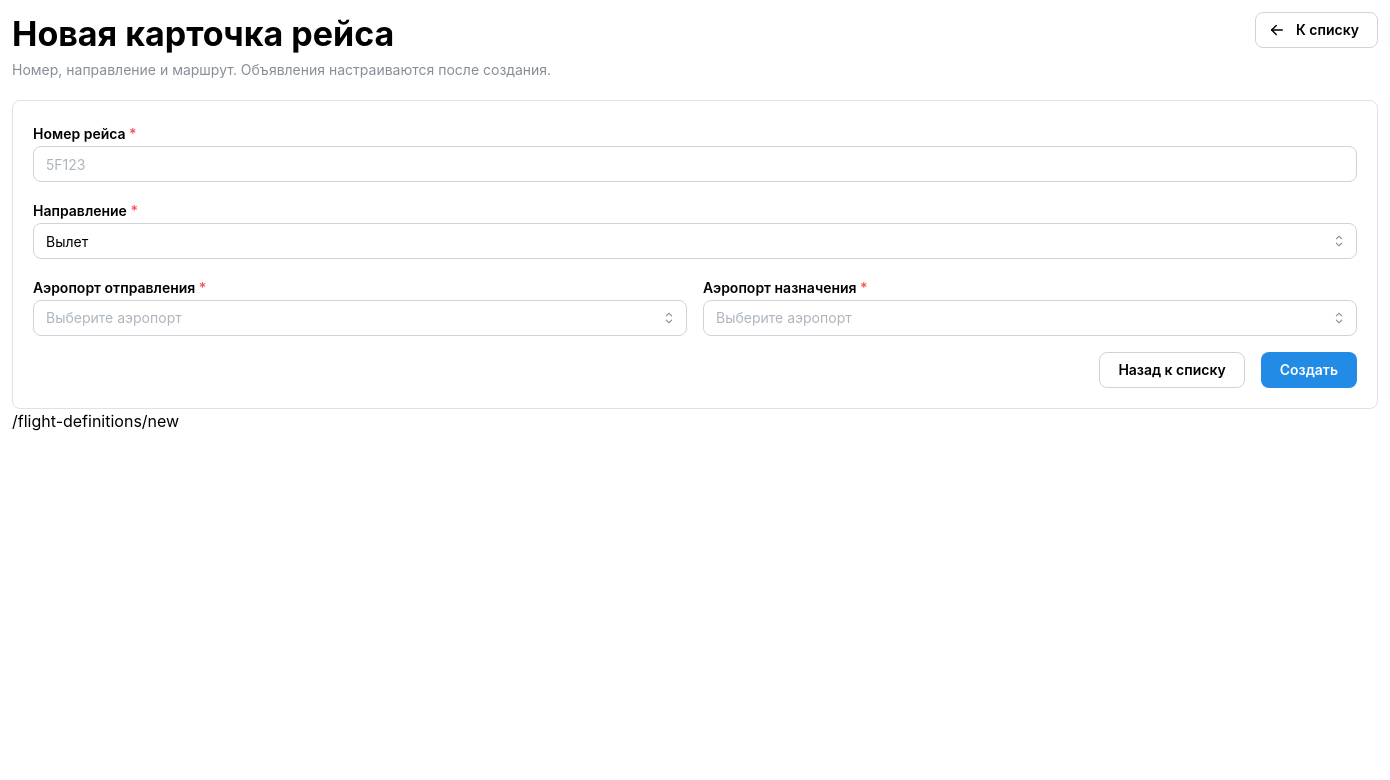
Scenario: FlightDefinitionCreatePage › creates a flight definition and navigates to the details page
Type "5f123" into the field labelled "Номер рейса *". click: (695, 164)
box: [33,146,1357,182]
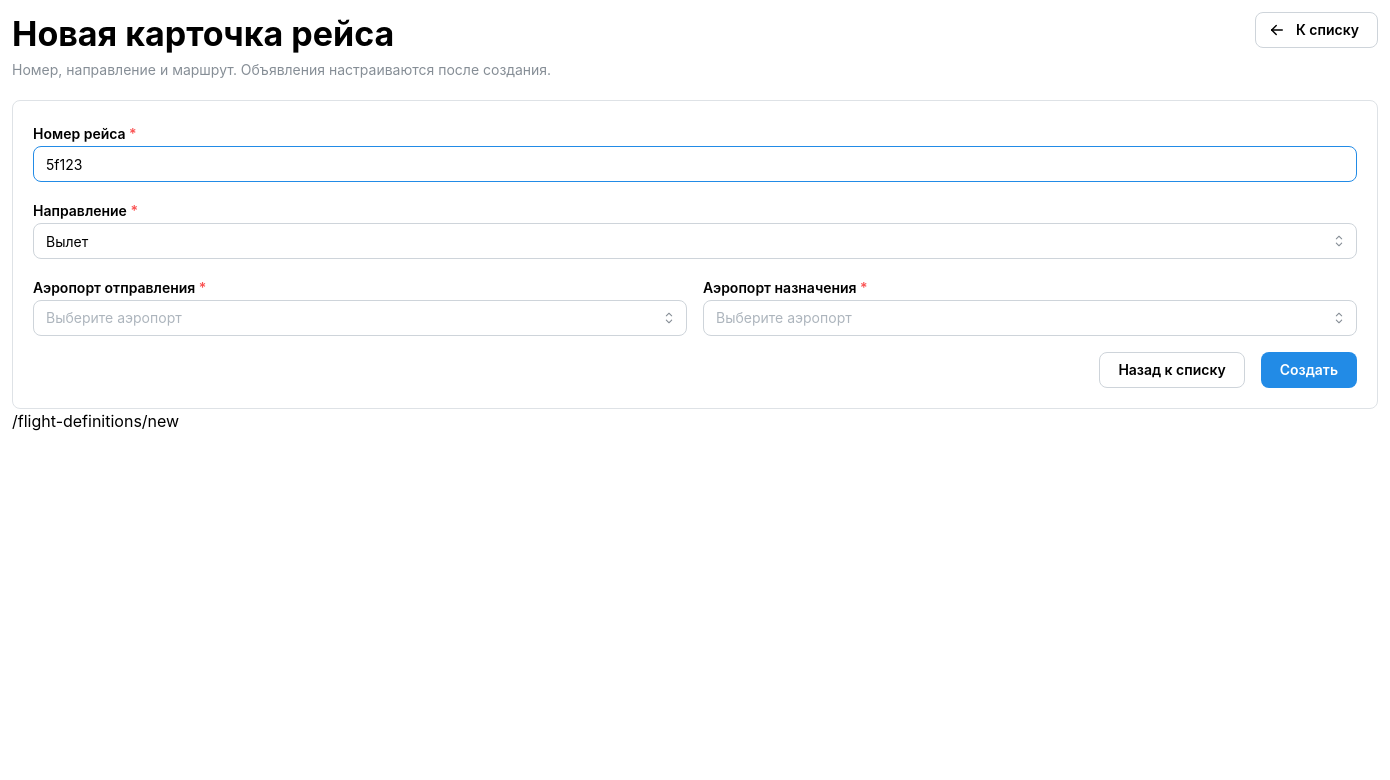
Click the dropdown labelled "Аэропорт отправления *". click: (360, 318)
box: [33,300,687,336]
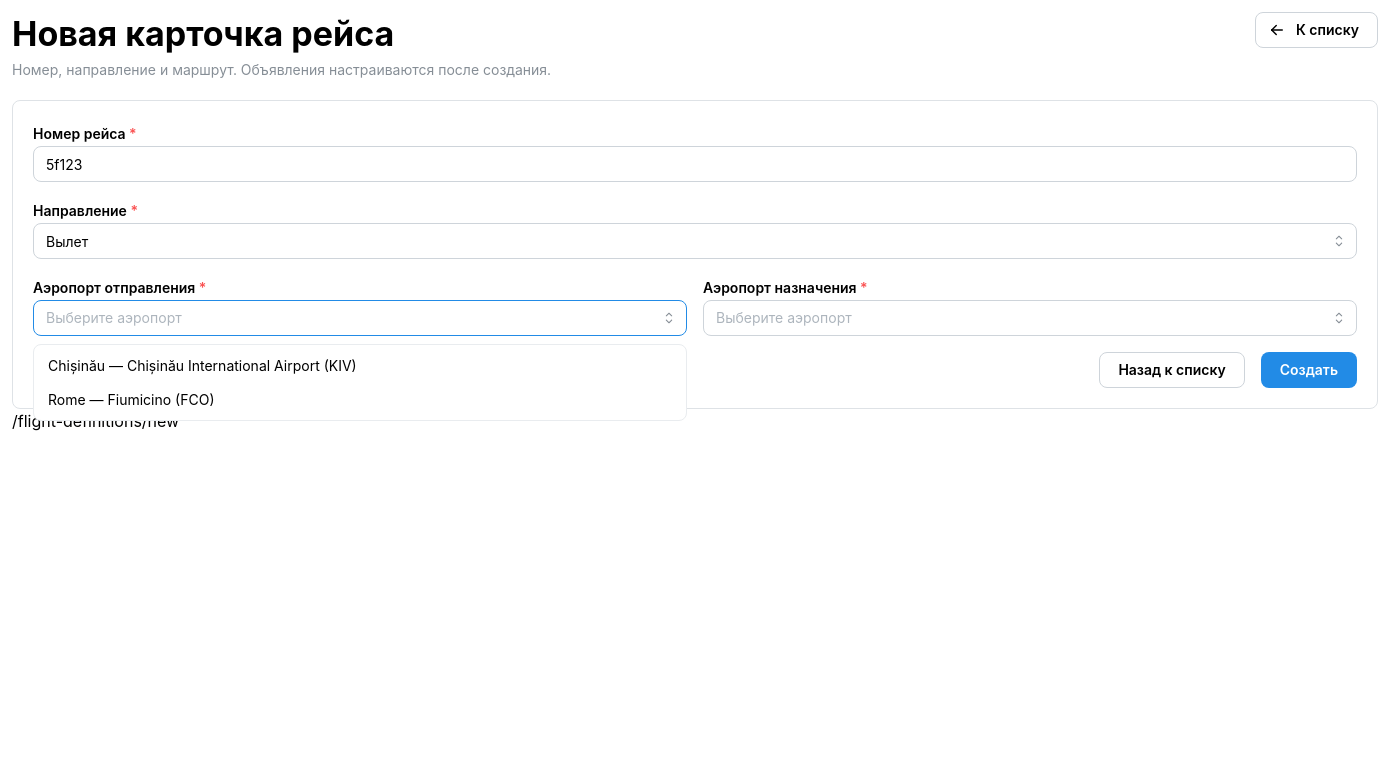
Click the option "Chișinău — Chișinău International Airport (KIV)". click: (202, 365)
box: [48,357,357,374]
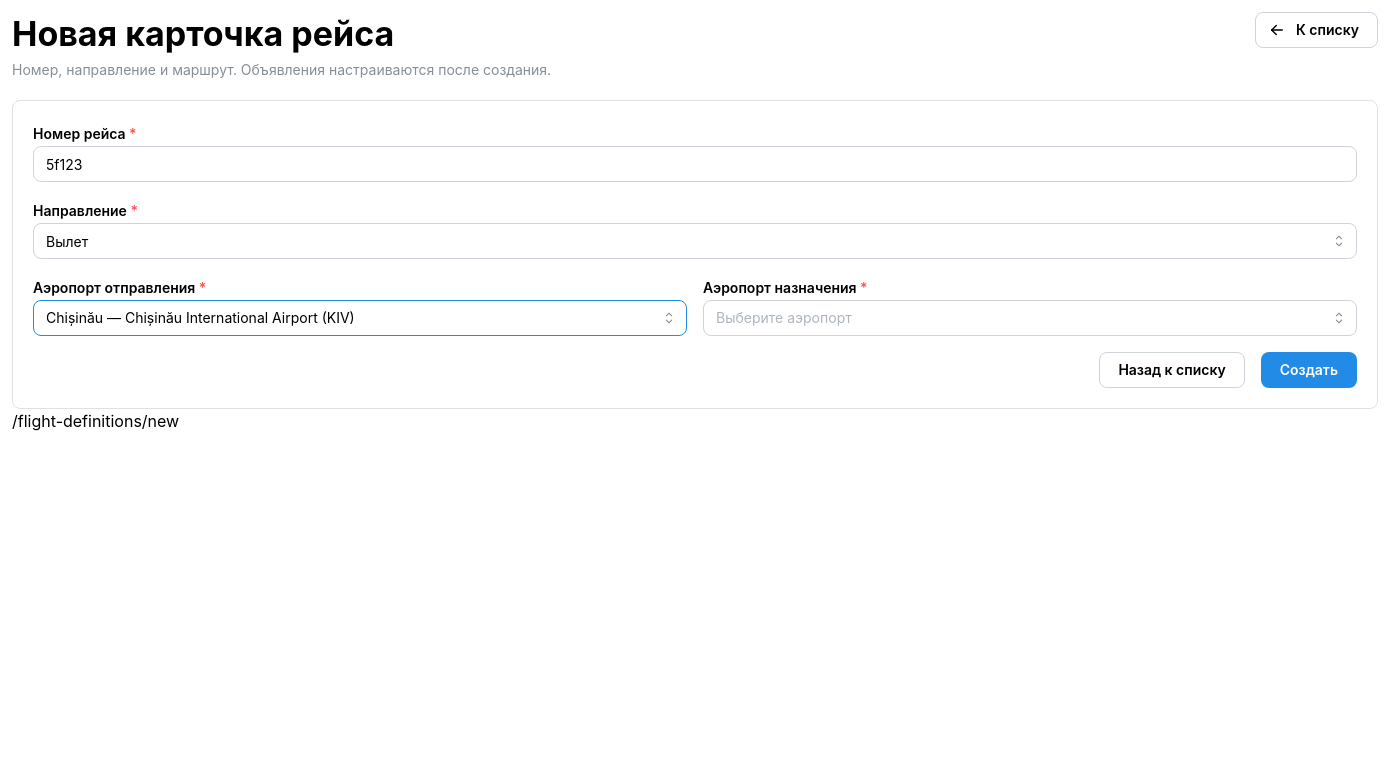
Click the dropdown labelled "Аэропорт назначения *". click: (1030, 318)
box: [703,300,1357,336]
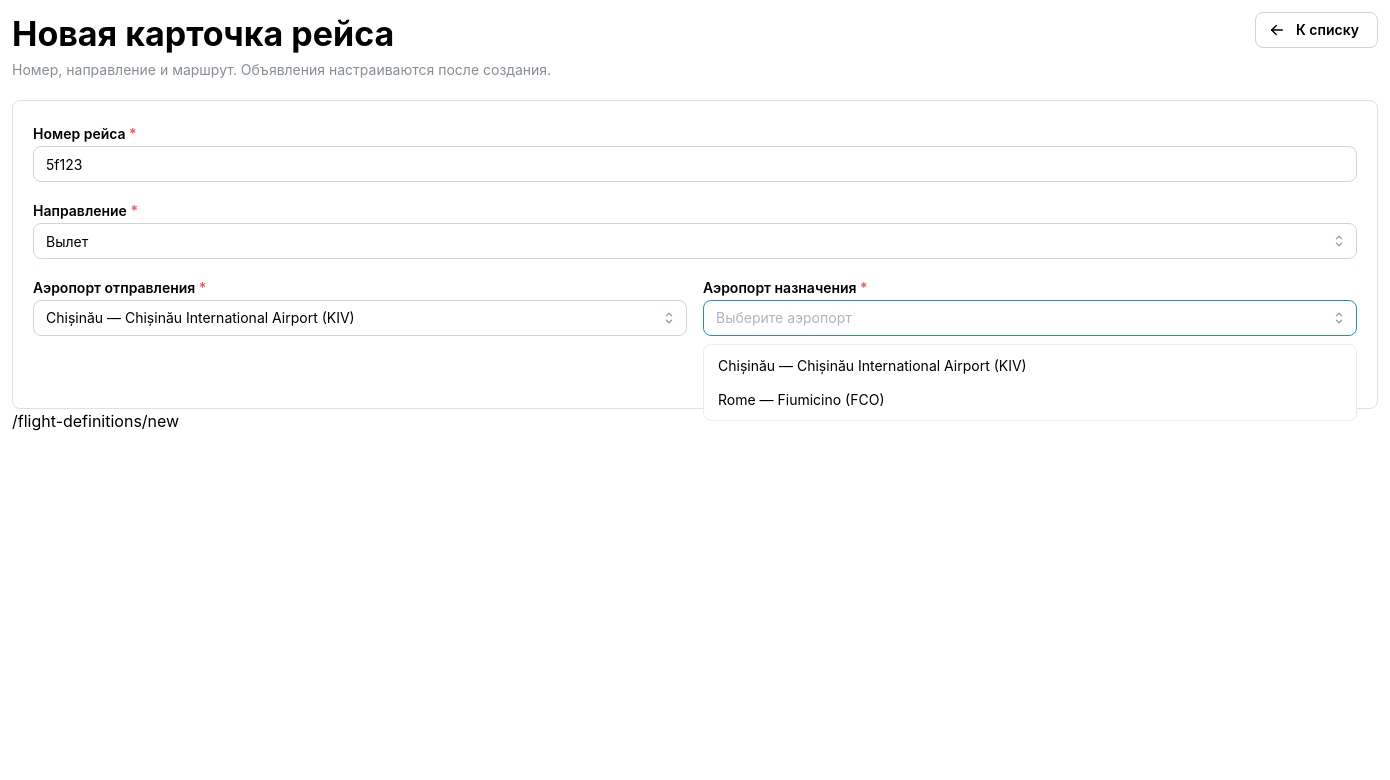
Click the option "Rome — Fiumicino (FCO)". click: (801, 399)
box: [718,391,884,408]
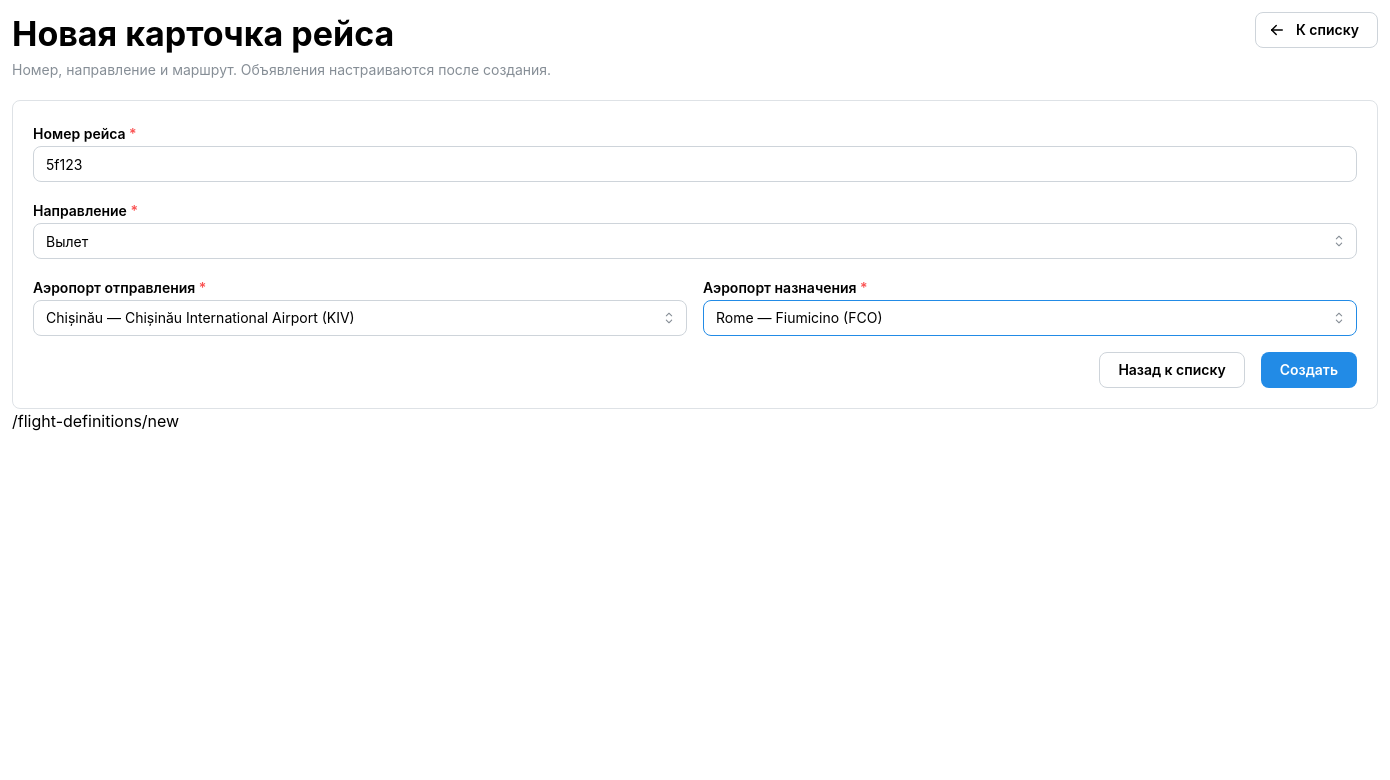
Click the button "Создать". click: (1309, 370)
box: [1261,352,1357,388]
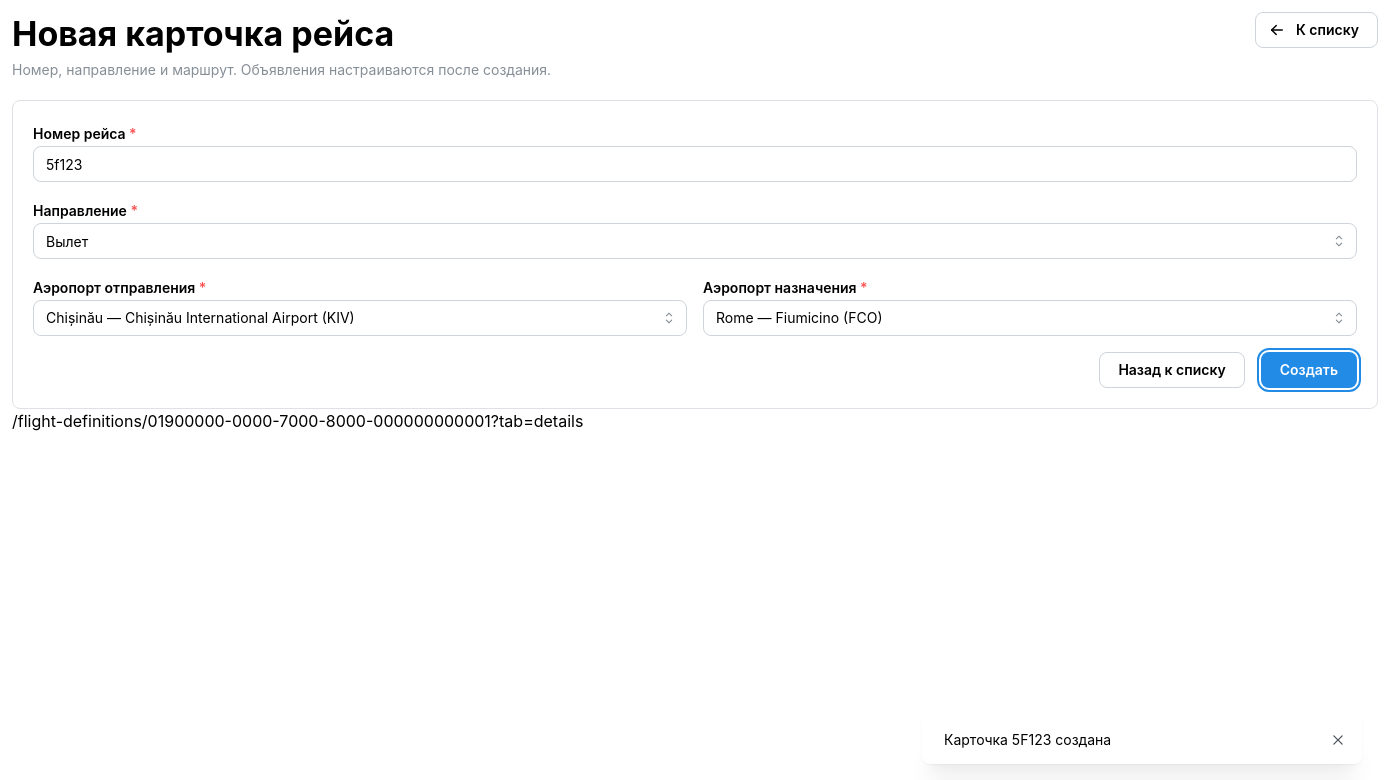
expect the text with test id "location" reads "/flight-definitions/01900000-0000-7000-8000-000000000001?tab=details": met, box [12,411,583,431]
